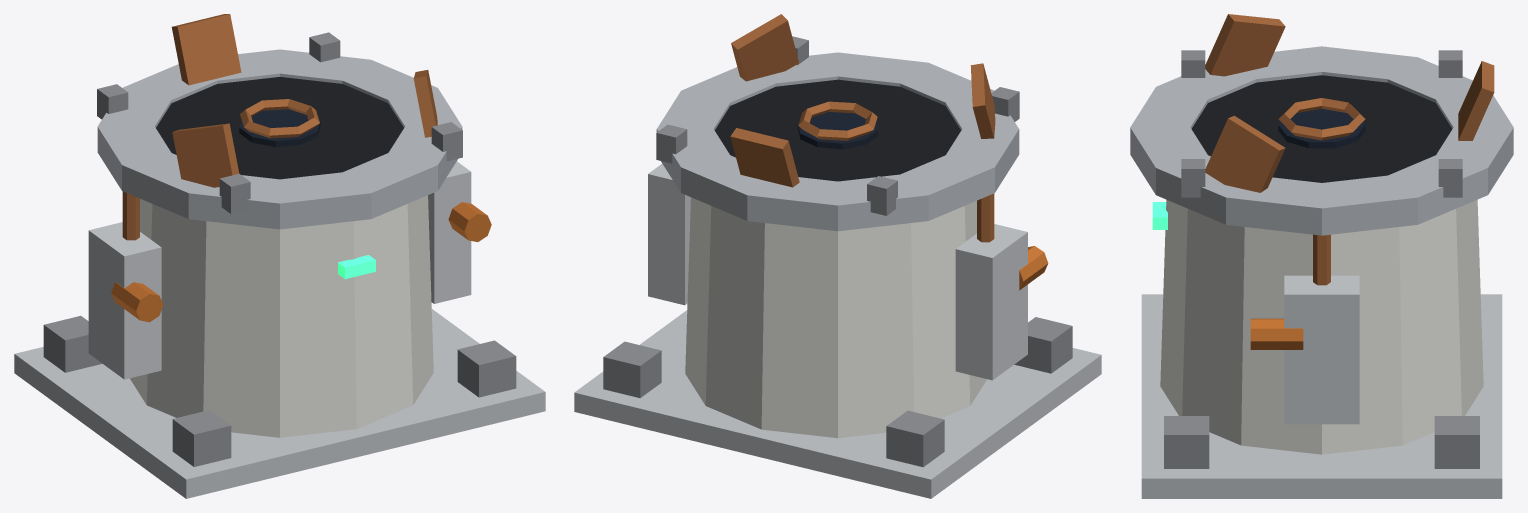
Rendered from cabin-idss-docking.glb.
The picture shows the model from 3 angles, left to right: view 1: azimuth 30°, elevation 25°; view 2: azimuth 150°, elevation 25°; view 3: azimuth 270°, elevation 25°; orthographic projection. The views are drawn at different scales.
Visible parts, largest first — view 1: CabinIdssDocking_Hull, CabinIdssDocking_Steel, CabinIdssDocking_Aluminum, CabinIdssDocking_HullBlack, CabinIdssDocking_FoilSilver, CabinIdssDocking_Titanium, CabinIdssDocking_Copper, CabinIdssDocking_Foam, CabinIdssDocking_Visor, CabinIdssDocking_LedGreen; view 2: CabinIdssDocking_Hull, CabinIdssDocking_Steel, CabinIdssDocking_Aluminum, CabinIdssDocking_FoilSilver, CabinIdssDocking_HullBlack, CabinIdssDocking_Titanium, CabinIdssDocking_Copper, CabinIdssDocking_Visor, CabinIdssDocking_Foam; view 3: CabinIdssDocking_Hull, CabinIdssDocking_Steel, CabinIdssDocking_Aluminum, CabinIdssDocking_HullBlack, CabinIdssDocking_Copper, CabinIdssDocking_FoilSilver, CabinIdssDocking_Titanium, CabinIdssDocking_Visor, CabinIdssDocking_Foam, CabinIdssDocking_LedGreen.
Boxes of the visible parts, box(x1,y1,x2,y2) form: CabinIdssDocking_Hull: box(130, 195, 433, 437); CabinIdssDocking_Steel: box(97, 49, 462, 229); CabinIdssDocking_Aluminum: box(14, 309, 545, 498); CabinIdssDocking_HullBlack: box(156, 77, 403, 179); CabinIdssDocking_FoilSilver: box(88, 161, 471, 379); CabinIdssDocking_Titanium: box(43, 32, 516, 466); CabinIdssDocking_Copper: box(122, 14, 437, 240); CabinIdssDocking_Foam: box(111, 202, 491, 322); CabinIdssDocking_Visor: box(239, 109, 320, 146); CabinIdssDocking_LedGreen: box(338, 255, 375, 279); CabinIdssDocking_Hull: box(685, 197, 986, 438); CabinIdssDocking_Steel: box(656, 52, 1019, 231); CabinIdssDocking_Aluminum: box(574, 310, 1101, 498); CabinIdssDocking_FoilSilver: box(648, 163, 1027, 380); CabinIdssDocking_HullBlack: box(714, 79, 961, 181); CabinIdssDocking_Titanium: box(603, 36, 1072, 467); CabinIdssDocking_Copper: box(730, 14, 995, 242); CabinIdssDocking_Visor: box(797, 112, 878, 149); CabinIdssDocking_Foam: box(1019, 246, 1048, 290); CabinIdssDocking_Hull: box(1160, 199, 1483, 454); CabinIdssDocking_Steel: box(1130, 46, 1513, 235); CabinIdssDocking_Aluminum: box(1141, 294, 1502, 498); CabinIdssDocking_HullBlack: box(1191, 75, 1452, 182); CabinIdssDocking_Copper: box(1205, 14, 1494, 285); CabinIdssDocking_FoilSilver: box(1284, 275, 1359, 424); CabinIdssDocking_Titanium: box(1164, 50, 1479, 468); CabinIdssDocking_Visor: box(1278, 109, 1365, 148); CabinIdssDocking_Foam: box(1250, 318, 1303, 349); CabinIdssDocking_LedGreen: box(1152, 202, 1167, 229).
Bounding box in the file's own units: 0.58 × 0.4999 × 0.51.
